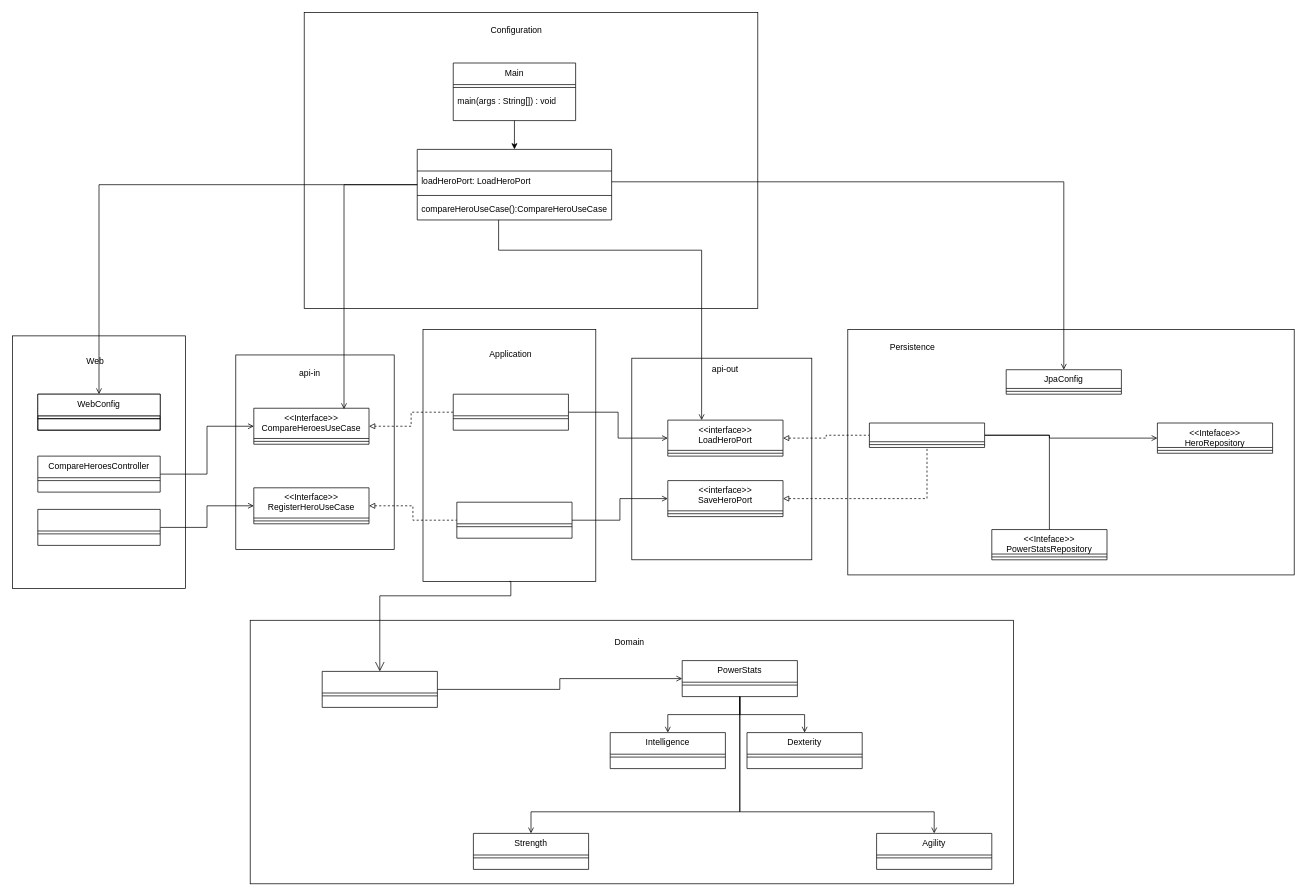
Some shapes in this 1307 by 896 pixel diagram are drawn without their labels. The shapes that lost their labels are listed below. From the top down, each one's box as (x1, y1, x2, y2) in pixels, then its label:
(417, 149, 612, 220): SrpringContextConfiguration
(453, 393, 568, 430): CompareHeroesService
(869, 422, 985, 447): PersistenceAdapter
(37, 509, 160, 545): RegisterHeroController
(456, 501, 572, 538): RegisterHeroService
(321, 671, 437, 707): Hero
